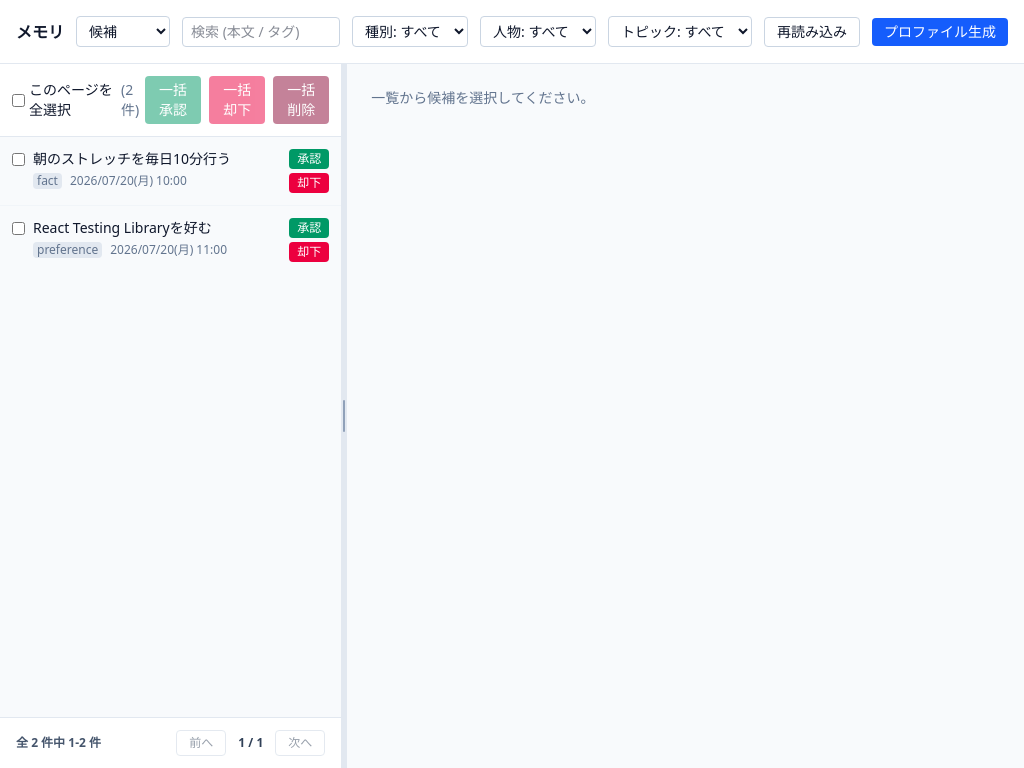
Test: MemoryPage › Copilot Profile Generation › displays error toast if renderCopilotProfile fails
The width and height of the screenshot is (1024, 768).
Click the button "プロファイル生成": (940, 32) [872,18,1008,46]
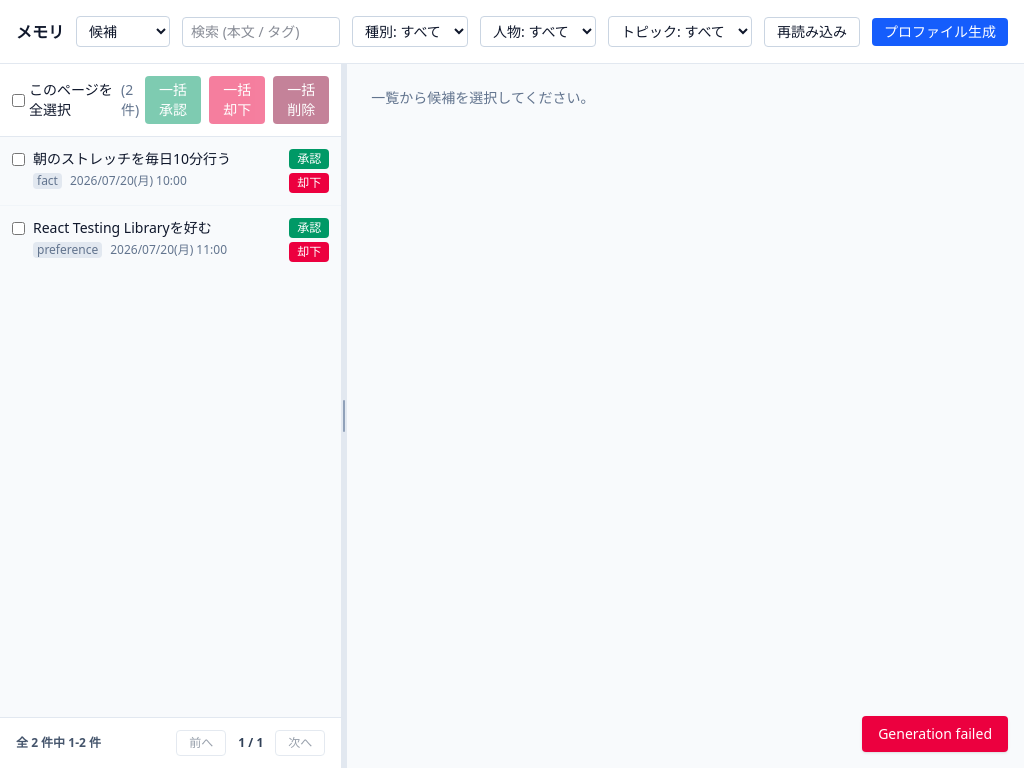
Check: the text "Generation failed" is shown, box [862,716,1008,752]
